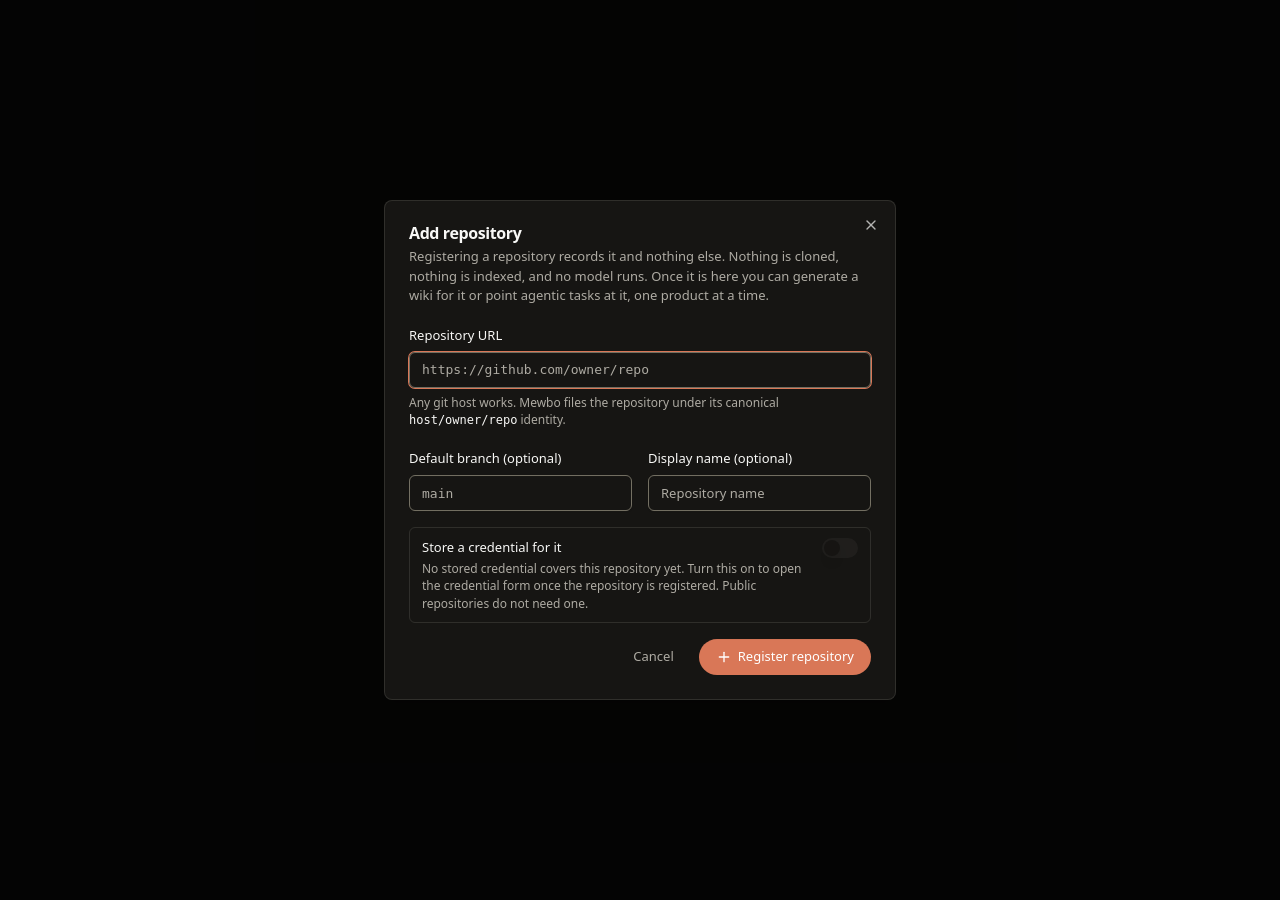
Test: AddRepositoryDialog › a duplicate registration pins its message to the URL field, not the banner
Type "https://git.example.com/acme/orbit" into the field labelled "Repository URL" at (640, 370), box [409,352,871,388]
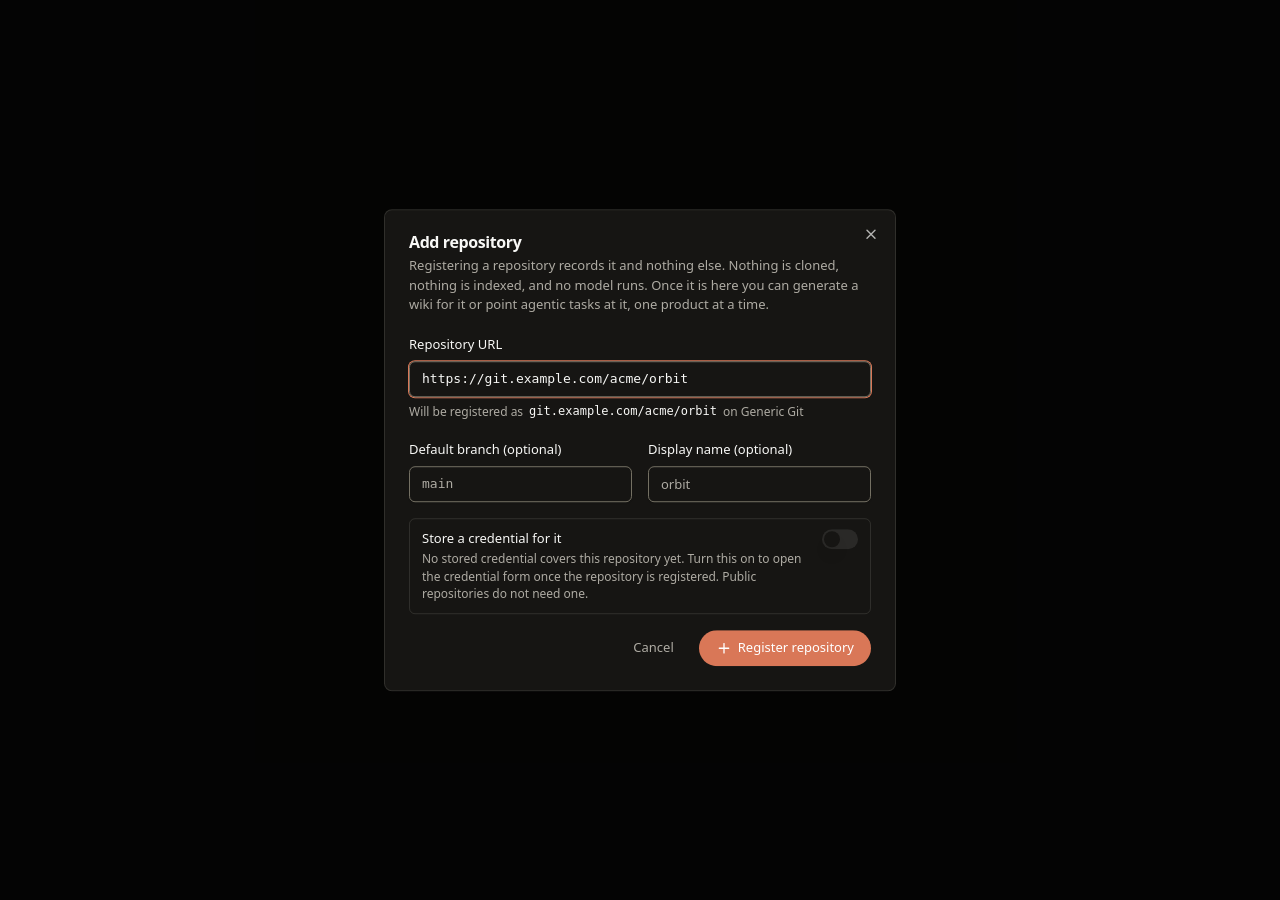
Click the button "Register repository" at (785, 648), box [699,630,871,666]
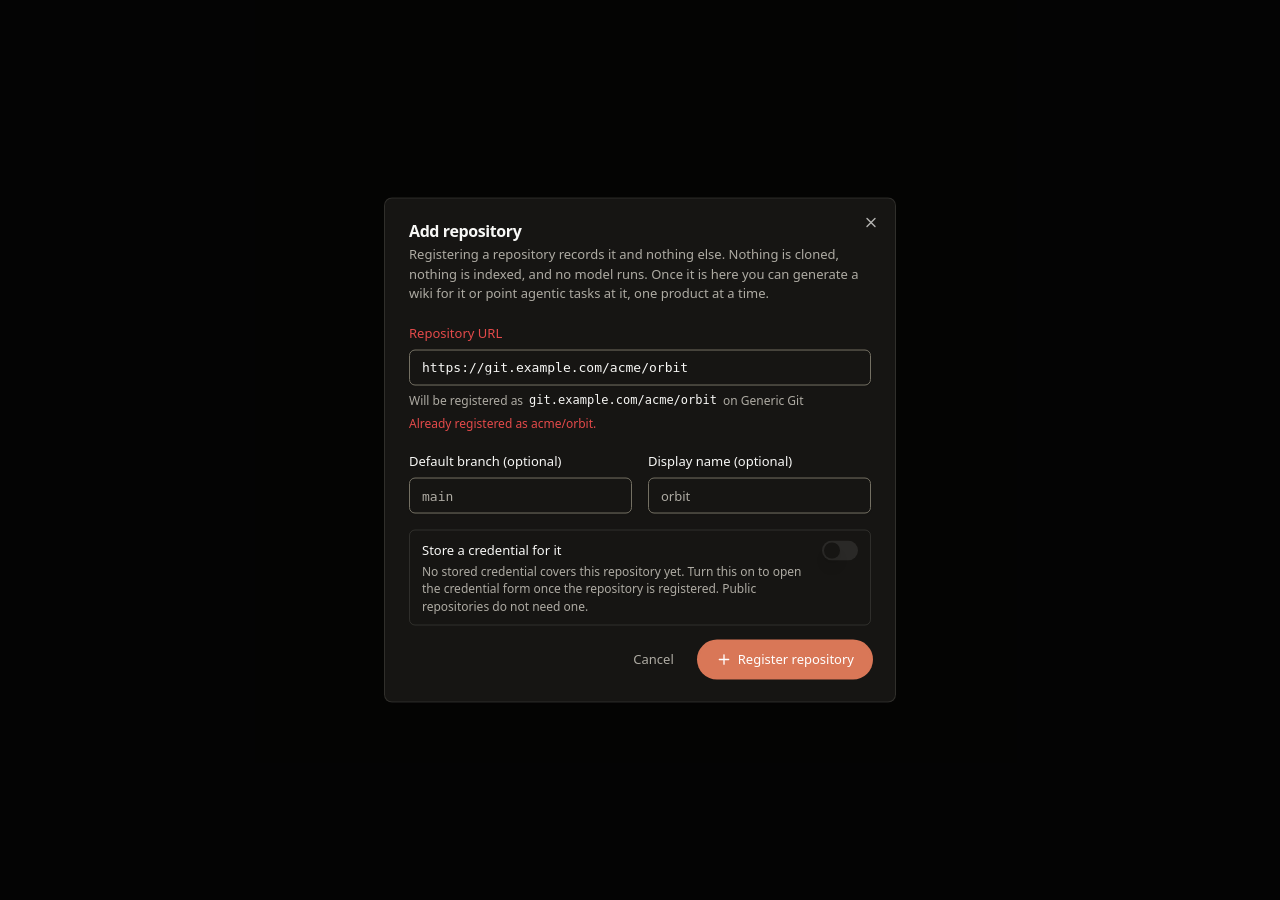
Expected: the text "Already registered as acme/orbit." is shown, [409,414,596,431]
